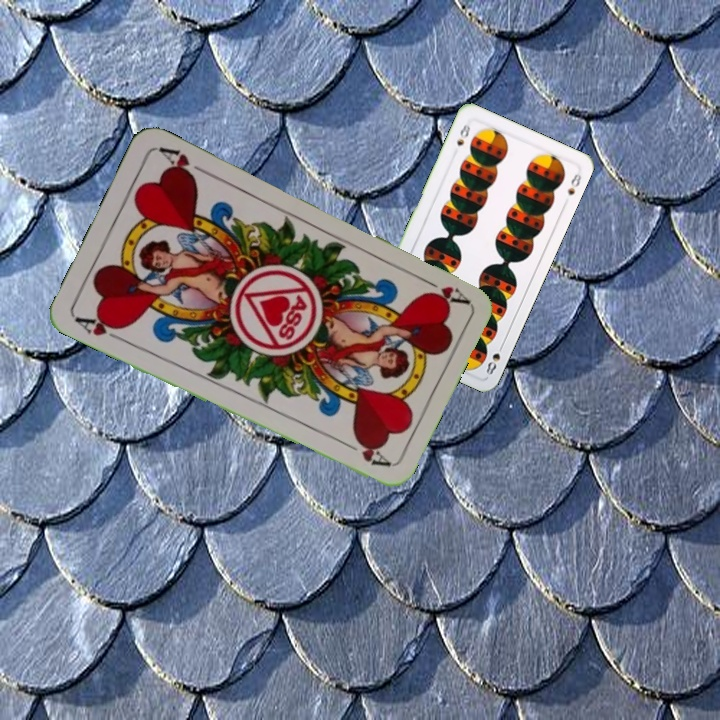HA: (414, 272, 470, 307), (71, 311, 127, 345)
S8: (482, 339, 506, 377), (452, 120, 473, 148)
